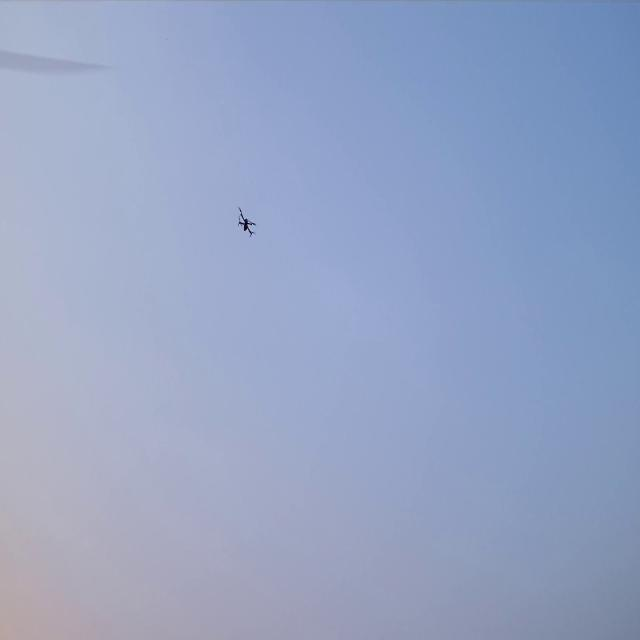UAV: (236, 203, 257, 239)
